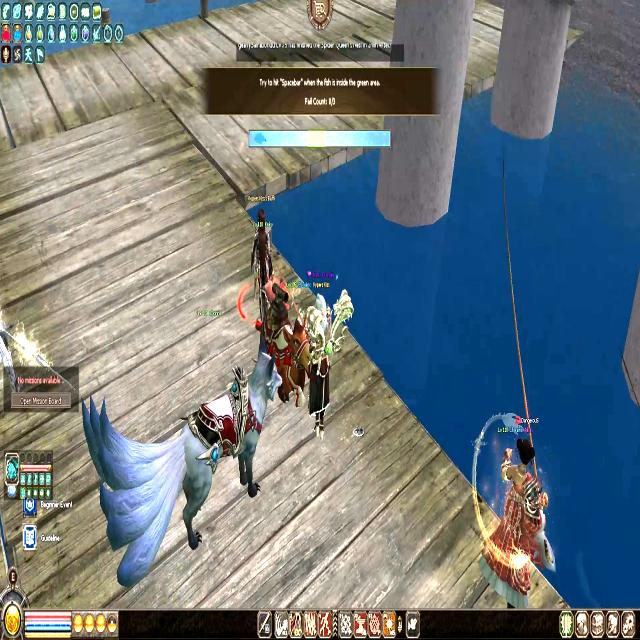fishes: (253, 131, 267, 147)
